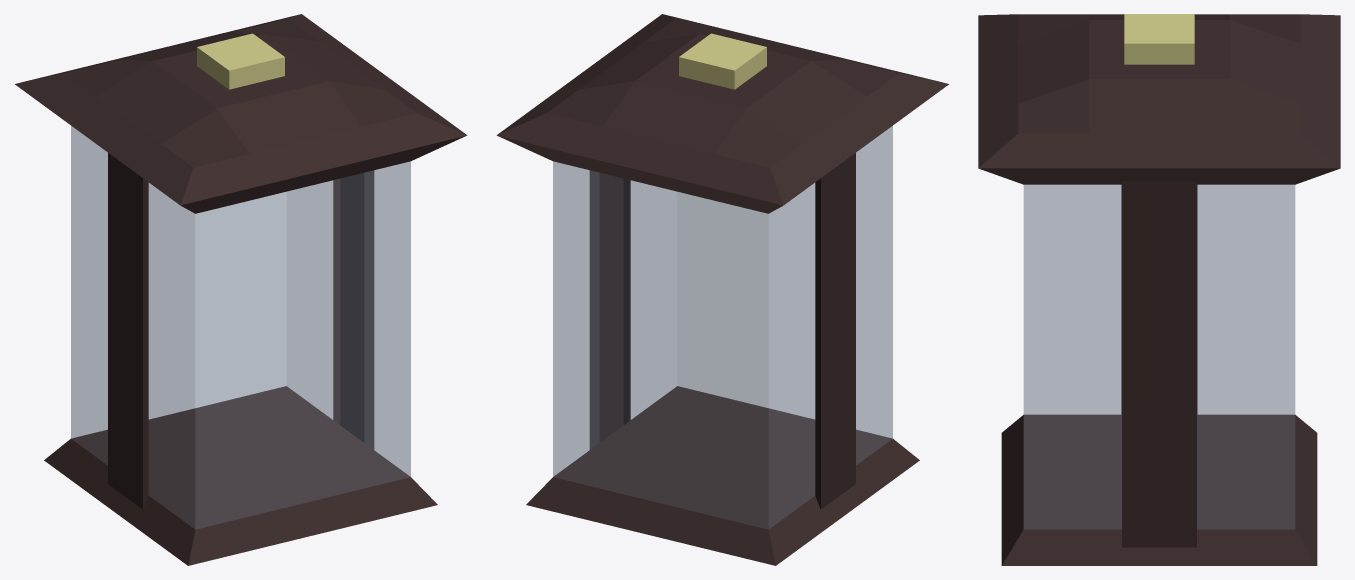
The model's file is Lantern.fbx.
3 renders of one model, left to right at view 1: azimuth 30°, elevation 25°; view 2: azimuth 150°, elevation 25°; view 3: azimuth 270°, elevation 25°, orthographic. The views are drawn at different scales.
Parts seen in each view (by area): view 1: Lantern; view 2: Lantern; view 3: Lantern.
Boxes of the visible parts, x1,y1,x2,y2 form: Lantern: (15,14,467,565); Lantern: (496,14,948,565); Lantern: (978,14,1340,565).
Bounding box in the file's own units: 133 × 191 × 133.
